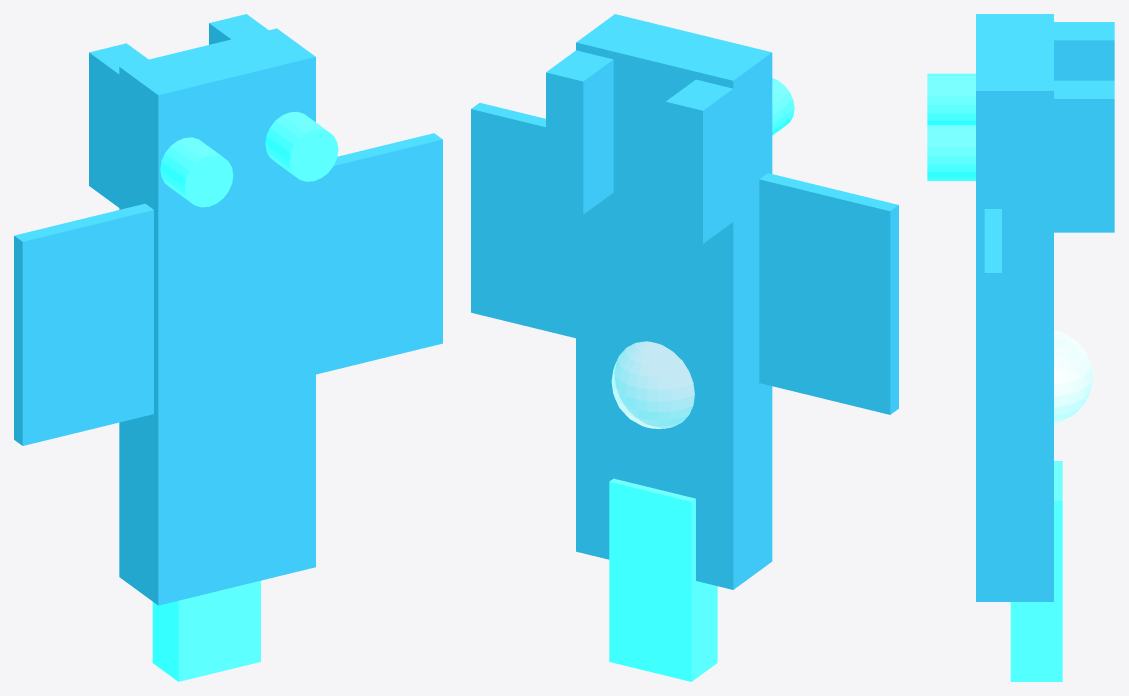
Rendered from player_ship.glb.
3 renders of one model, left to right at view 1: azimuth 30°, elevation 25°; view 2: azimuth 150°, elevation 25°; view 3: azimuth 270°, elevation 25°, orthographic.
Visible parts, largest first — view 1: body, wing, nose, tail_fin_-1, engine_-1, engine_1, tail_fin_1; view 2: body, wing, nose, tail_fin_-1, tail_fin_1, canopy, engine_-1; view 3: body, tail_fin_1, nose, wing, tail_fin_-1, canopy, engine_1, engine_-1.
Part boxes in pixels (x1,y1,x2,y2): body: [119, 28, 315, 605]; wing: [14, 133, 442, 445]; nose: [152, 580, 260, 681]; tail_fin_-1: [89, 43, 148, 209]; engine_-1: [160, 137, 233, 207]; engine_1: [265, 111, 338, 181]; tail_fin_1: [209, 14, 268, 44]; body: [576, 14, 772, 589]; wing: [471, 103, 898, 414]; nose: [609, 478, 717, 681]; tail_fin_-1: [665, 73, 754, 243]; tail_fin_1: [546, 50, 613, 214]; canopy: [611, 341, 694, 428]; engine_-1: [772, 78, 794, 135]; body: [976, 14, 1053, 601]; tail_fin_1: [1010, 80, 1114, 232]; nose: [1010, 461, 1062, 681]; wing: [984, 209, 1001, 477]; tail_fin_-1: [1054, 22, 1114, 80]; canopy: [1054, 330, 1092, 423]; engine_1: [927, 125, 975, 180]; engine_-1: [927, 73, 975, 124].
Bounding box in the file's own units: 2.24 × 3.1 × 0.865.
